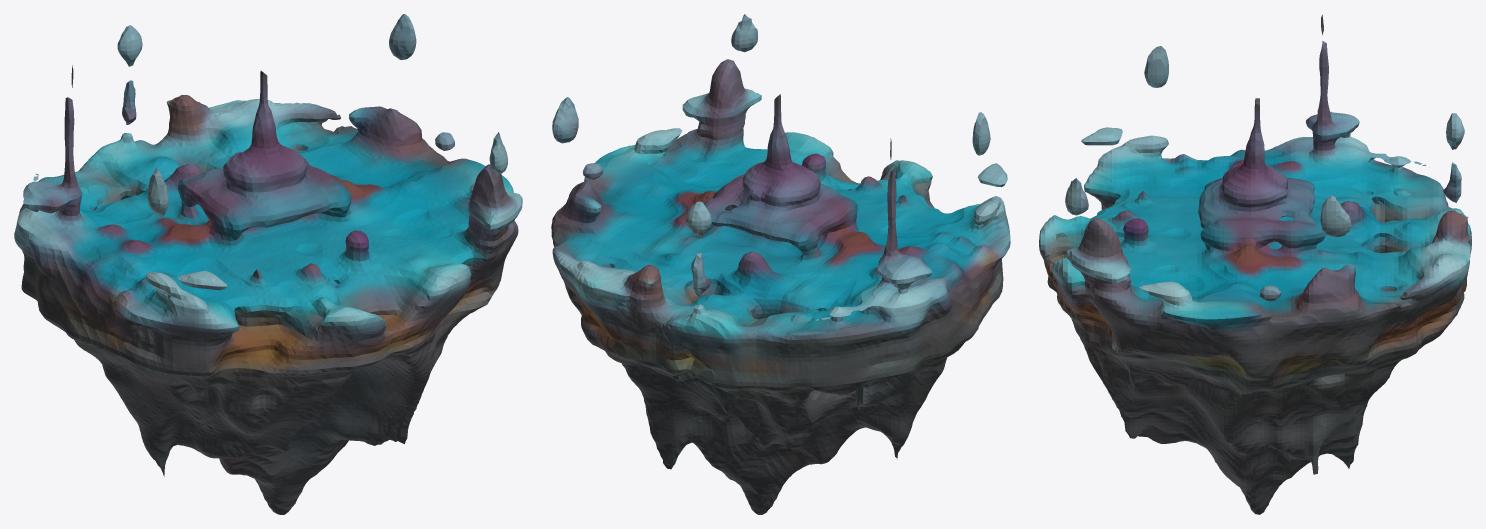
3 renders of one model, left to right at view 1: azimuth 30°, elevation 25°; view 2: azimuth 150°, elevation 25°; view 3: azimuth 270°, elevation 25°, orthographic. The views are drawn at different scales.
Bounding box in the file's own units: 1.52 × 1.62 × 1.5.
